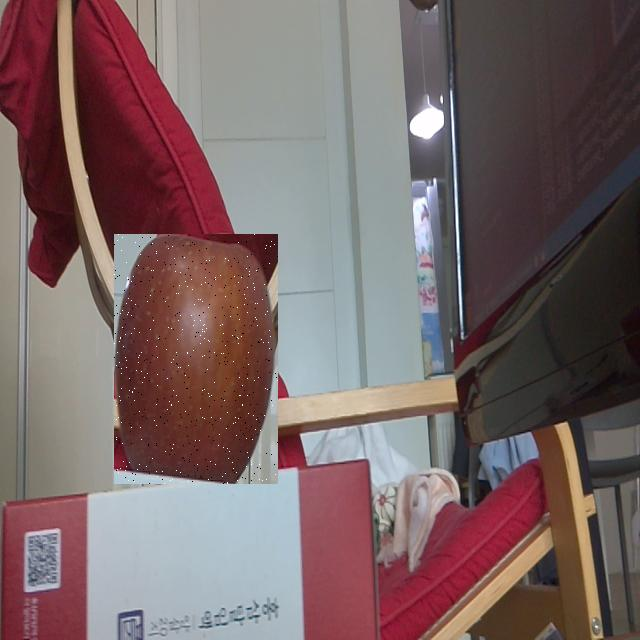apple: (114, 234, 278, 484)
